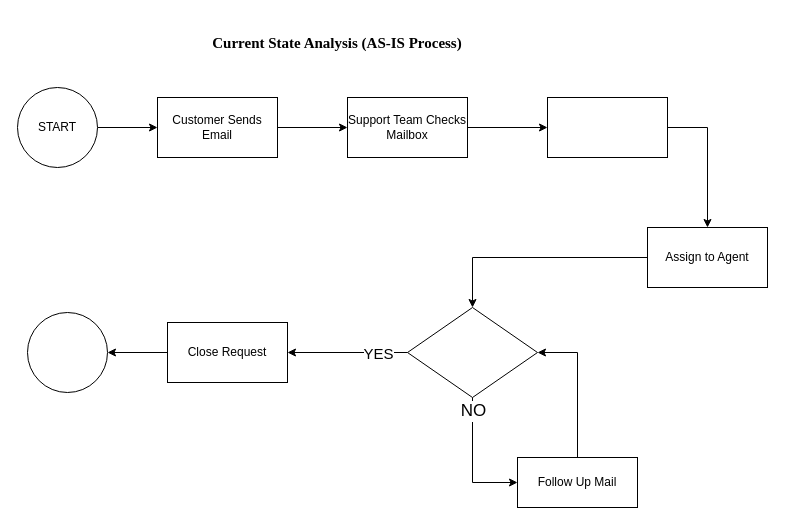
Image size: 785x525. Some labels were removed from this diagram. The centre of each missing label's shape, as x and y in pixels:
"Create Ticket Record (Excel)" belongs at point (607, 127).
"END" belongs at point (67, 352).
"Issue Resolved?" belongs at point (472, 352).
